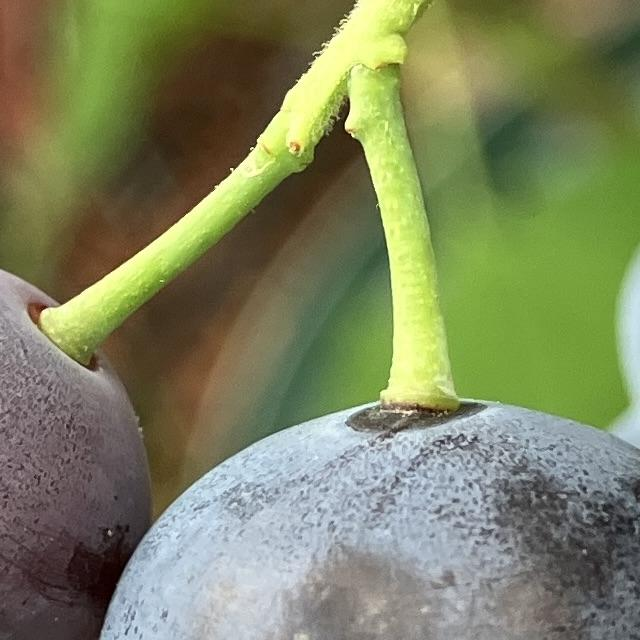Blueberries: (83, 387, 640, 640), (0, 241, 153, 640)
